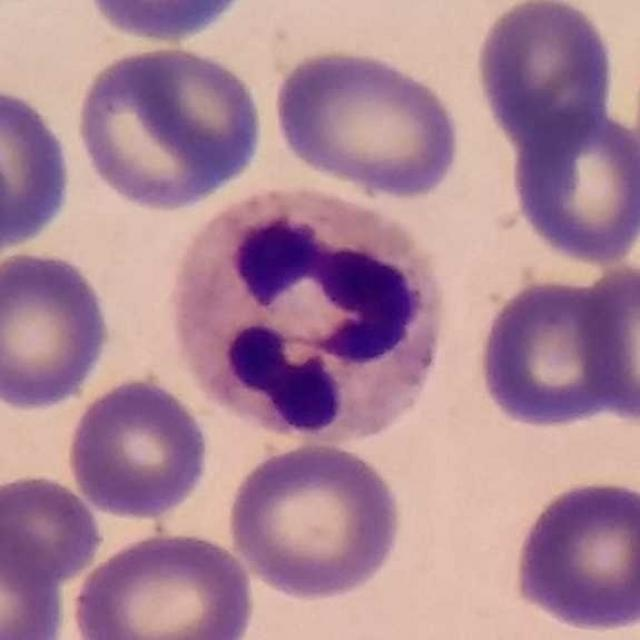Neutrophil: (157, 177, 456, 456)
RBC: (72, 41, 270, 215), (268, 42, 466, 202), (223, 438, 406, 602), (471, 272, 635, 434), (471, 0, 620, 152), (504, 102, 639, 268), (64, 373, 212, 522), (68, 526, 259, 640), (507, 474, 639, 636), (1, 246, 115, 414), (0, 81, 78, 258), (0, 468, 105, 588), (574, 262, 640, 429), (77, 0, 267, 48), (0, 518, 69, 640)
